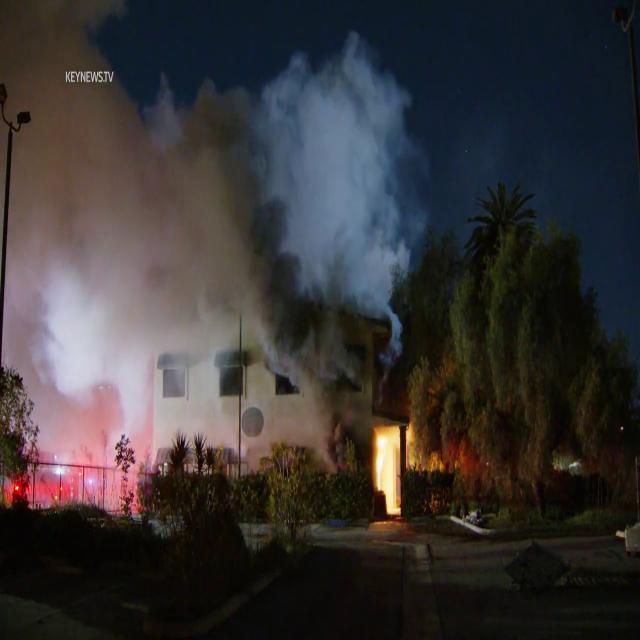Fire: (368, 420, 418, 518)
Smoke: (0, 3, 420, 351)
